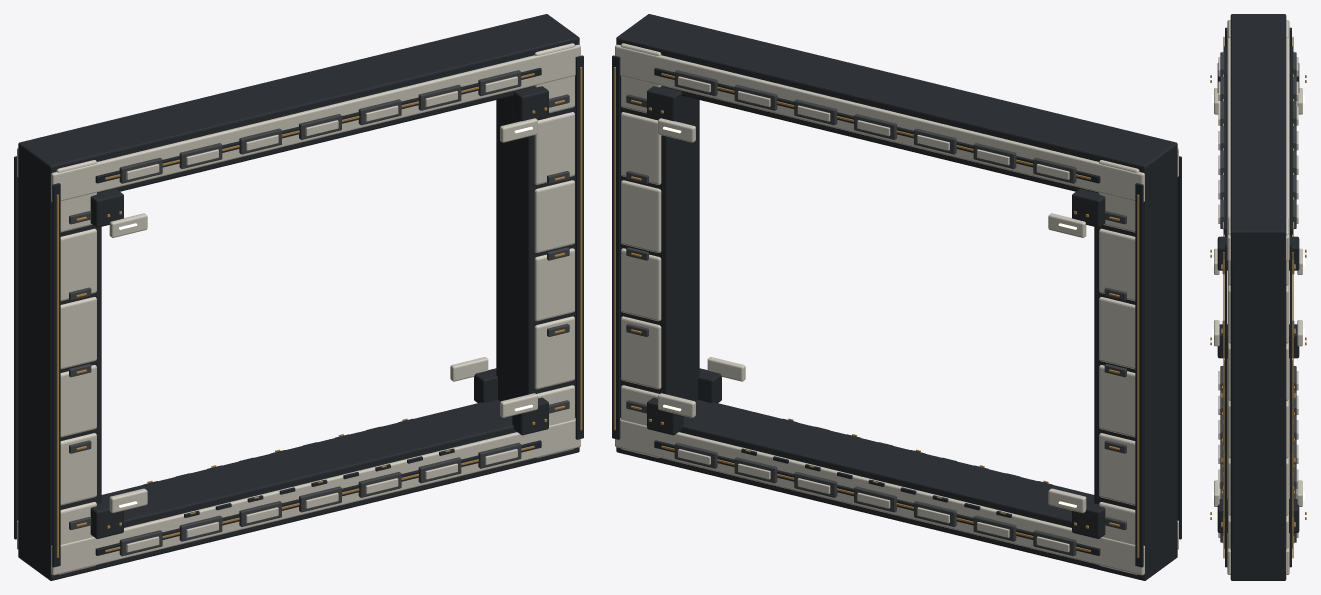
File: SM_Aurelion_KIT_Z12UpperSidelightFrame_4x3.fbx
3 views of the same model, side by side, from view 1: azimuth 30°, elevation 25°; view 2: azimuth 150°, elevation 25°; view 3: azimuth 270°, elevation 25° (orthographic). The views are drawn at different scales.
Parts seen in each view (by area): view 1: SM_Aurelion_KIT_Z12UpperSidelightFrame_4x3; view 2: SM_Aurelion_KIT_Z12UpperSidelightFrame_4x3; view 3: SM_Aurelion_KIT_Z12UpperSidelightFrame_4x3.
Boxes of the visible parts, <box> form: SM_Aurelion_KIT_Z12UpperSidelightFrame_4x3: <box>14,14,583,580</box>; SM_Aurelion_KIT_Z12UpperSidelightFrame_4x3: <box>612,14,1181,580</box>; SM_Aurelion_KIT_Z12UpperSidelightFrame_4x3: <box>1210,14,1306,580</box>.
Size of the model in its own units: 400 by 74.6 by 299.
